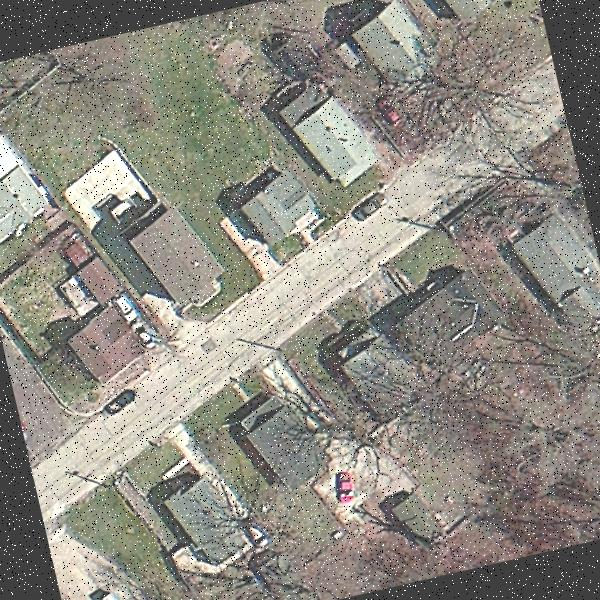Buildings: (51, 225, 152, 394), (514, 199, 600, 325), (298, 81, 384, 193), (140, 212, 225, 311), (344, 0, 437, 90), (235, 155, 332, 241), (171, 476, 240, 566), (248, 404, 315, 487), (0, 132, 51, 237), (417, 0, 527, 45)
